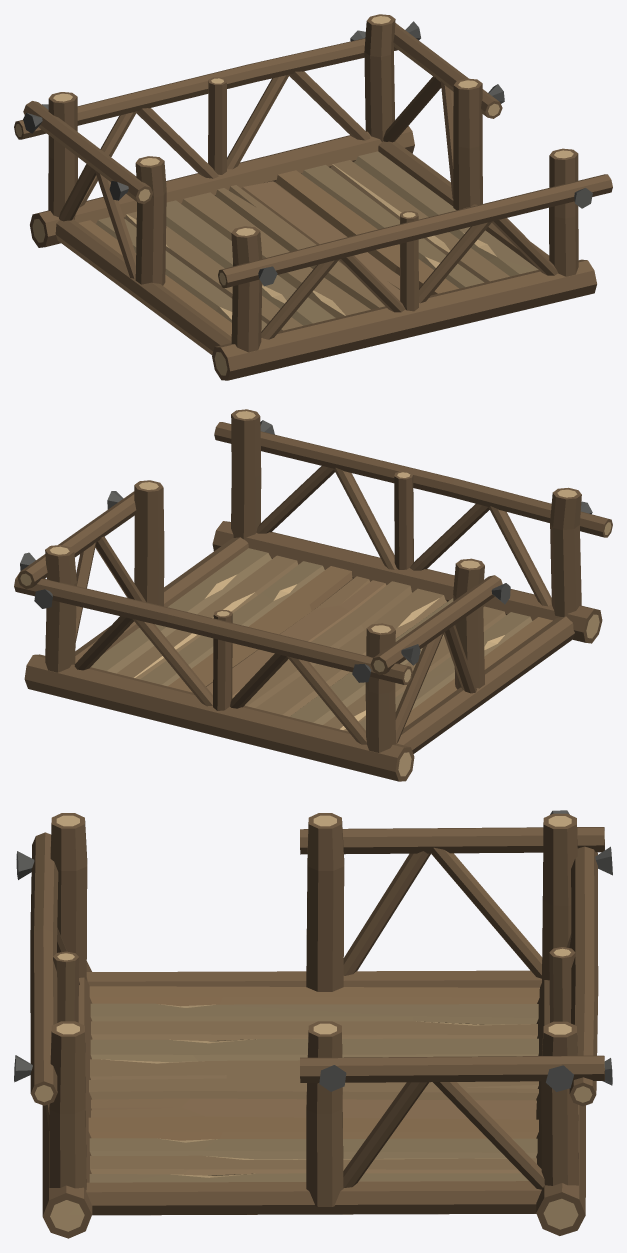
File: rpgpp_ag_gate_balcony_03_platform_02b.fbx
3 views of the same model, one above another, from view 1: azimuth 30°, elevation 25°; view 2: azimuth 150°, elevation 25°; view 3: azimuth 270°, elevation 25° (orthographic). The views are drawn at different scales.
Parts seen in each view (by area): view 1: rpgpp_ag_gate_balcony_03_platform_02b; view 2: rpgpp_ag_gate_balcony_03_platform_02b; view 3: rpgpp_ag_gate_balcony_03_platform_02b.
Part boxes in pixels (x1=…): rpgpp_ag_gate_balcony_03_platform_02b: x1=14, y1=14, x2=612, y2=380; rpgpp_ag_gate_balcony_03_platform_02b: x1=14, y1=409, x2=612, y2=781; rpgpp_ag_gate_balcony_03_platform_02b: x1=14, y1=810, x2=612, y2=1238.
Size of the model in its own units: 4.84 by 1.72 by 4.81.
